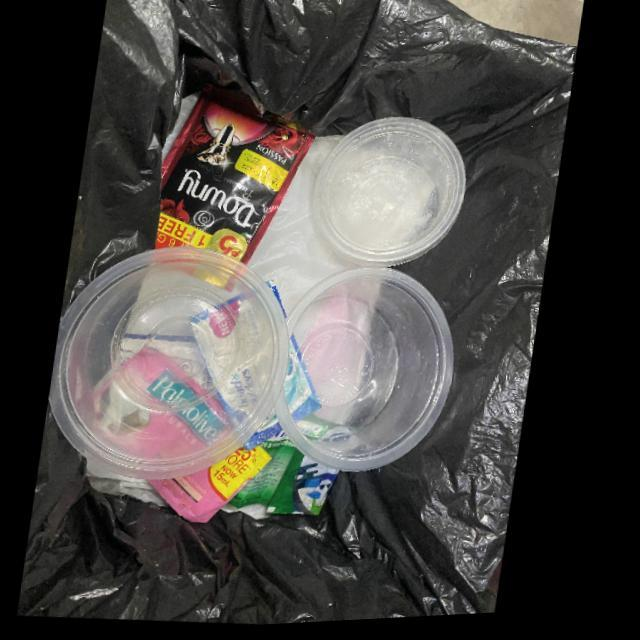plastic_container: (53, 247, 294, 481), (281, 270, 459, 475), (314, 120, 469, 271)
plastic_sachet: (158, 85, 318, 266), (235, 426, 343, 518), (154, 448, 278, 525)
